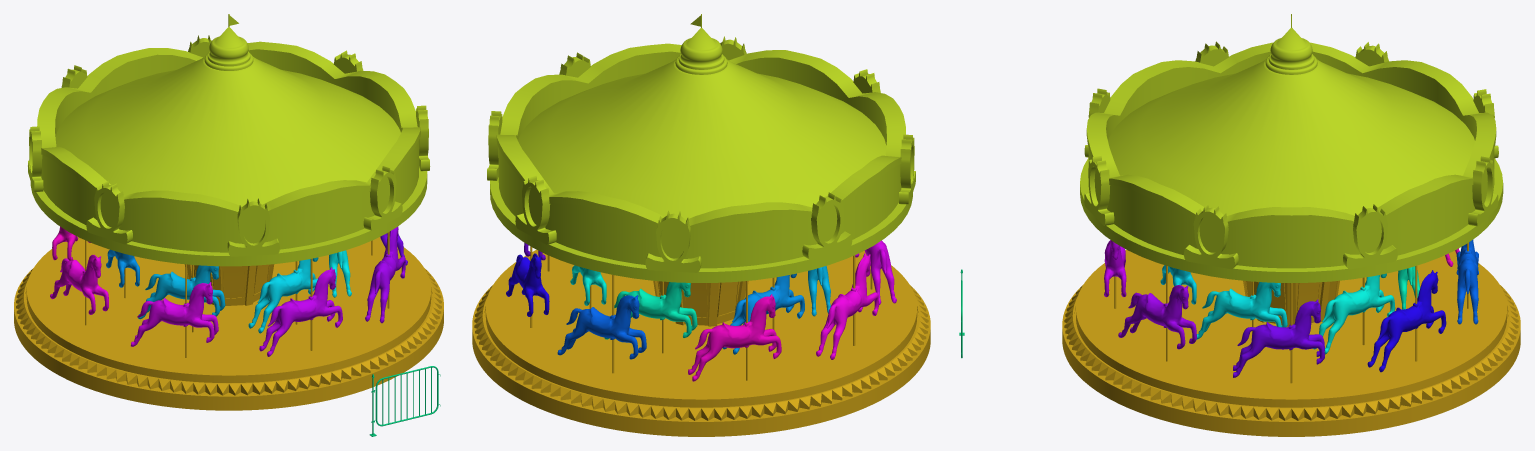
File: Horse_carousel.fbx
The picture shows the model from 3 angles, left to right: view 1: azimuth 30°, elevation 25°; view 2: azimuth 150°, elevation 25°; view 3: azimuth 270°, elevation 25°; orthographic projection. The views are drawn at different scales.
Parts seen in each view (by area): view 1: Horse_carousel_1_3, Horse_carousel_1, Horse_carousel_1_3_11, Horse_carousel_1_3_12, Horse_carousel_1_3_4, Horse_carousel_1_3_5, Horse_carousel_1_3_13, Horse_carousel_1_3_10, Horse_carousel_1_2_1, Horse_carousel_1_3_6, Horse_carousel_1_3_3, Horse_carousel_1_3_14; view 2: Horse_carousel_1_3, Horse_carousel_1, Horse_carousel_1_3_14, Horse_carousel_1_3_7, Horse_carousel_1_3_13, Horse_carousel_1_3_1, Horse_carousel_1_3_6, Horse_carousel_1_3_8, Horse_carousel_1_3_12, Horse_carousel_1_3_5, Horse_carousel_1_3_2; view 3: Horse_carousel_1_3, Horse_carousel_1, Horse_carousel_1_3_9, Horse_carousel_1_3_8, Horse_carousel_1_3_3, Horse_carousel_1_3_10, Horse_carousel_1_3_2, Horse_carousel_1_3_7, Horse_carousel_1_3_11, Horse_carousel_1_3_1, Horse_carousel_1_3_4.
Boxes of the visible parts, x1=… form: Horse_carousel_1_3: x1=26, y1=14, x2=431, y2=382; Horse_carousel_1: x1=14, y1=268, x2=443, y2=410; Horse_carousel_1_3_11: x1=259, y1=267, x2=342, y2=356; Horse_carousel_1_3_12: x1=130, y1=282, x2=218, y2=346; Horse_carousel_1_3_4: x1=248, y1=257, x2=318, y2=333; Horse_carousel_1_3_5: x1=138, y1=265, x2=225, y2=319; Horse_carousel_1_3_13: x1=50, y1=254, x2=108, y2=314; Horse_carousel_1_3_10: x1=365, y1=226, x2=405, y2=323; Horse_carousel_1_2_1: x1=374, y1=366, x2=440, y2=426; Horse_carousel_1_3_6: x1=106, y1=249, x2=139, y2=287; Horse_carousel_1_3_3: x1=329, y1=250, x2=351, y2=297; Horse_carousel_1_3_14: x1=52, y1=226, x2=90, y2=260; Horse_carousel_1_3: x1=485, y1=14, x2=917, y2=407; Horse_carousel_1: x1=472, y1=285, x2=930, y2=436; Horse_carousel_1_3_14: x1=688, y1=294, x2=781, y2=381; Horse_carousel_1_3_7: x1=557, y1=295, x2=646, y2=359; Horse_carousel_1_3_13: x1=816, y1=253, x2=878, y2=359; Horse_carousel_1_3_1: x1=604, y1=282, x2=697, y2=339; Horse_carousel_1_3_6: x1=723, y1=273, x2=804, y2=354; Horse_carousel_1_3_8: x1=506, y1=253, x2=549, y2=316; Horse_carousel_1_3_12: x1=855, y1=240, x2=896, y2=304; Horse_carousel_1_3_5: x1=808, y1=266, x2=830, y2=316; Horse_carousel_1_3_2: x1=570, y1=265, x2=606, y2=305; Horse_carousel_1_3: x1=1076, y1=14, x2=1507, y2=407; Horse_carousel_1: x1=1062, y1=284, x2=1520, y2=436; Horse_carousel_1_3_9: x1=1233, y1=299, x2=1324, y2=377; Horse_carousel_1_3_8: x1=1367, y1=270, x2=1446, y2=372; Horse_carousel_1_3_3: x1=1196, y1=282, x2=1287, y2=339; Horse_carousel_1_3_10: x1=1118, y1=285, x2=1196, y2=349; Horse_carousel_1_3_2: x1=1313, y1=273, x2=1395, y2=354; Horse_carousel_1_3_7: x1=1456, y1=239, x2=1478, y2=324; Horse_carousel_1_3_11: x1=1104, y1=240, x2=1126, y2=297; Horse_carousel_1_3_1: x1=1398, y1=266, x2=1420, y2=309; Horse_carousel_1_3_4: x1=1160, y1=265, x2=1196, y2=304.
Size of the model in its own units: 893 by 700 by 1094.
